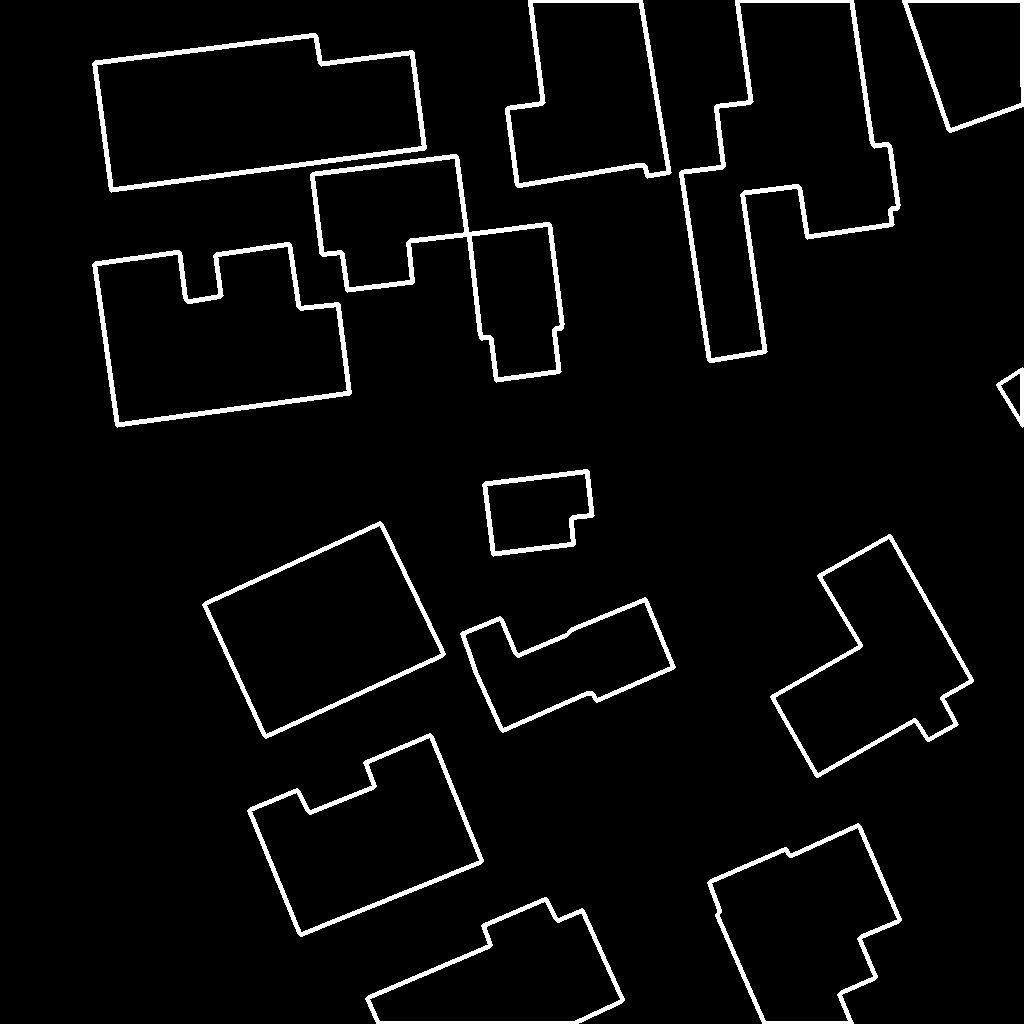building: (681, 0, 899, 362), (204, 523, 445, 738), (94, 35, 426, 191), (772, 536, 973, 777), (249, 735, 483, 936), (94, 244, 351, 426), (709, 825, 901, 1024), (367, 899, 624, 1024), (507, 0, 670, 187), (462, 599, 675, 732), (312, 156, 468, 291), (904, 0, 1024, 132), (469, 224, 563, 381), (484, 471, 593, 555), (998, 369, 1024, 427)
